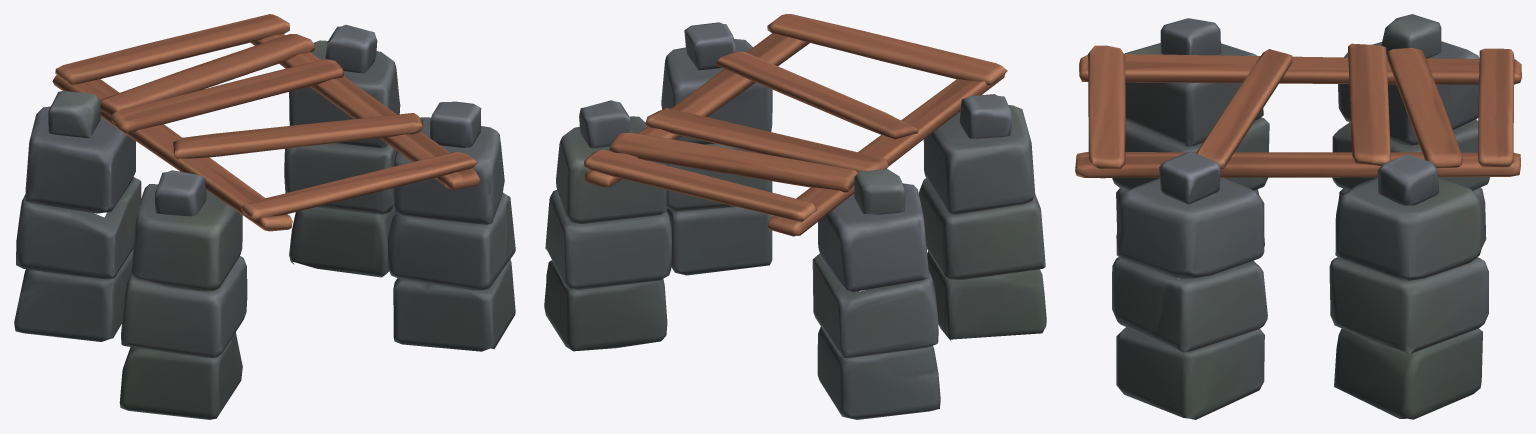
The model's file is SM_Bridge_End_02.glb.
3 views of the same model, side by side, from view 1: azimuth 30°, elevation 25°; view 2: azimuth 150°, elevation 25°; view 3: azimuth 270°, elevation 25° (orthographic). The views are drawn at different scales.
Visible parts, largest first — view 1: SM_Bridge_End_02; view 2: SM_Bridge_End_02; view 3: SM_Bridge_End_02.
Part boxes in pixels (x1=…): SM_Bridge_End_02: x1=14, y1=14, x2=515, y2=419; SM_Bridge_End_02: x1=544, y1=14, x2=1046, y2=419; SM_Bridge_End_02: x1=1075, y1=14, x2=1521, y2=419.
Size of the model in its own units: 4.32 by 2.3 by 4.04.
1 material, 1 textured.
